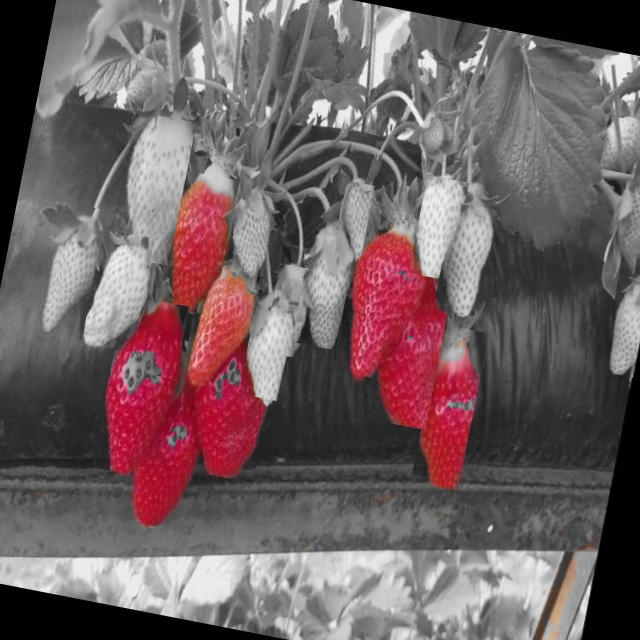ripe: (92, 294, 189, 480), (334, 214, 429, 384), (173, 332, 279, 483), (118, 374, 211, 532), (368, 269, 454, 430), (411, 324, 489, 490), (158, 171, 239, 317)
unripe: (108, 112, 196, 266), (36, 201, 108, 339), (86, 230, 155, 353), (433, 202, 498, 318), (292, 234, 356, 350), (238, 294, 298, 402), (408, 176, 468, 282), (262, 264, 316, 359), (602, 268, 640, 378), (334, 180, 375, 256), (599, 115, 640, 177), (613, 180, 640, 262)
